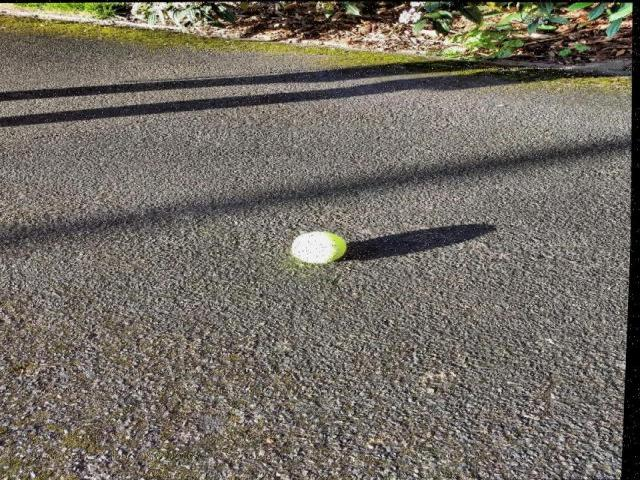tennis-ball: (290, 231, 347, 265)
